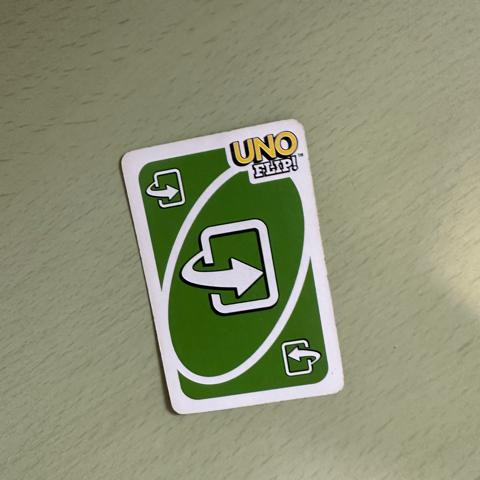lgreenflip-20: (141, 157, 201, 221)
